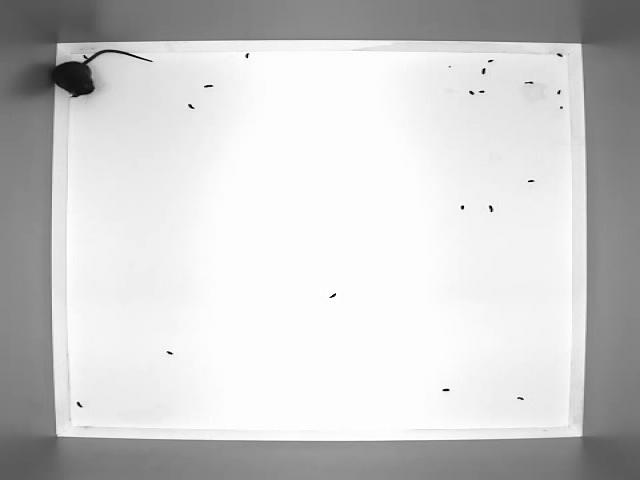Tikus: (48, 48, 158, 96)
